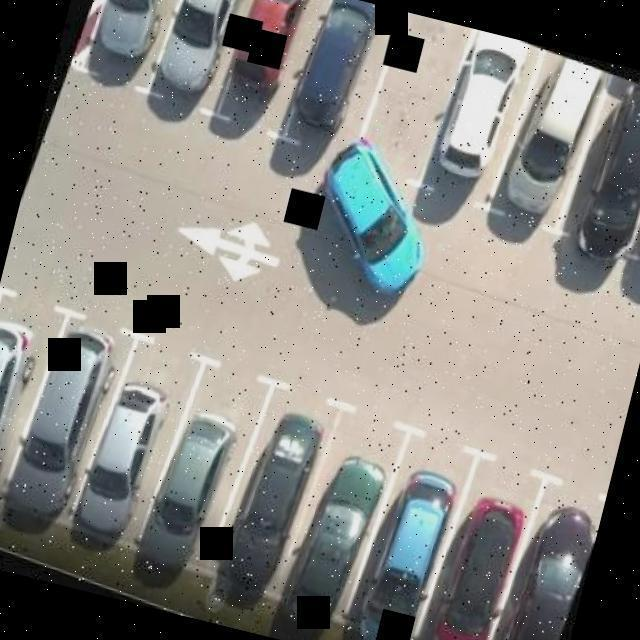car: (0, 299, 128, 544), (334, 443, 477, 640), (294, 134, 457, 298), (275, 426, 396, 640), (212, 401, 332, 613), (68, 365, 188, 563), (132, 389, 248, 591), (408, 470, 541, 640), (490, 46, 606, 238), (479, 489, 602, 640), (422, 24, 532, 186), (284, 0, 395, 126), (566, 73, 640, 255), (0, 298, 54, 517), (157, 0, 257, 99), (221, 0, 310, 107), (68, 0, 178, 82)
free: (352, 8, 472, 174)
